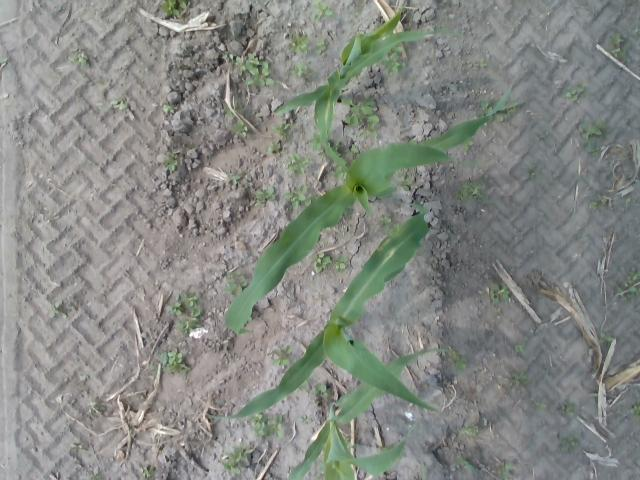Maize: (223, 78, 515, 333), (206, 203, 447, 419), (270, 8, 460, 175), (286, 348, 448, 480)
Weeds: (222, 446, 257, 476), (342, 98, 378, 126), (579, 122, 608, 152), (247, 61, 274, 87), (176, 313, 202, 334), (283, 184, 307, 206), (222, 271, 245, 292), (168, 348, 186, 372), (450, 458, 475, 474), (290, 34, 310, 54), (288, 152, 308, 172), (274, 346, 292, 368), (254, 188, 276, 206), (466, 182, 488, 200), (268, 415, 285, 438), (314, 252, 332, 273), (162, 0, 185, 16), (382, 53, 400, 73), (49, 302, 68, 318), (166, 294, 181, 314), (162, 154, 178, 172), (396, 172, 412, 190), (314, 0, 333, 15), (564, 87, 584, 101), (494, 283, 510, 300), (561, 436, 577, 453), (181, 290, 197, 307), (290, 64, 309, 78), (358, 125, 378, 138), (314, 384, 328, 402), (628, 274, 640, 294), (233, 120, 247, 137), (609, 279, 622, 297), (485, 286, 498, 304), (70, 52, 88, 64), (252, 422, 266, 437), (459, 425, 479, 435), (610, 32, 624, 46), (502, 462, 514, 478), (140, 466, 156, 478), (272, 123, 288, 135), (89, 401, 106, 412), (514, 372, 528, 384), (452, 358, 464, 372), (622, 41, 630, 61), (311, 134, 321, 150), (269, 141, 281, 154), (379, 214, 391, 227), (248, 52, 259, 66), (562, 404, 574, 416), (228, 173, 241, 184), (298, 414, 312, 424), (316, 38, 326, 52), (235, 56, 245, 70), (631, 403, 640, 418), (337, 258, 348, 270), (90, 467, 100, 479), (163, 104, 177, 112), (150, 364, 158, 377), (350, 144, 360, 154), (161, 351, 168, 365), (459, 188, 467, 200), (494, 114, 504, 123), (115, 102, 126, 110), (539, 132, 549, 140), (463, 141, 473, 149), (611, 48, 620, 56), (515, 344, 524, 352), (535, 402, 547, 408), (0, 57, 9, 65), (254, 414, 264, 421), (70, 444, 84, 449), (600, 333, 608, 341), (481, 101, 488, 110), (449, 350, 457, 357), (480, 58, 486, 67), (632, 28, 639, 35), (589, 202, 597, 208), (530, 173, 536, 178), (496, 308, 502, 313), (627, 198, 630, 205)
